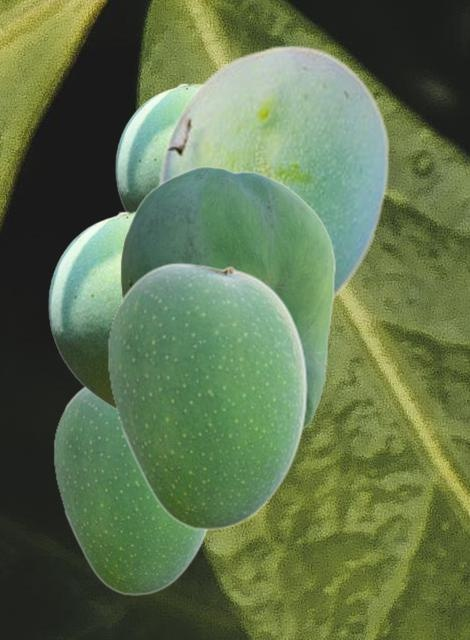green_mango: (156, 44, 389, 299), (120, 166, 334, 430), (107, 262, 307, 529), (53, 387, 209, 594), (48, 210, 134, 411), (115, 82, 200, 211)
